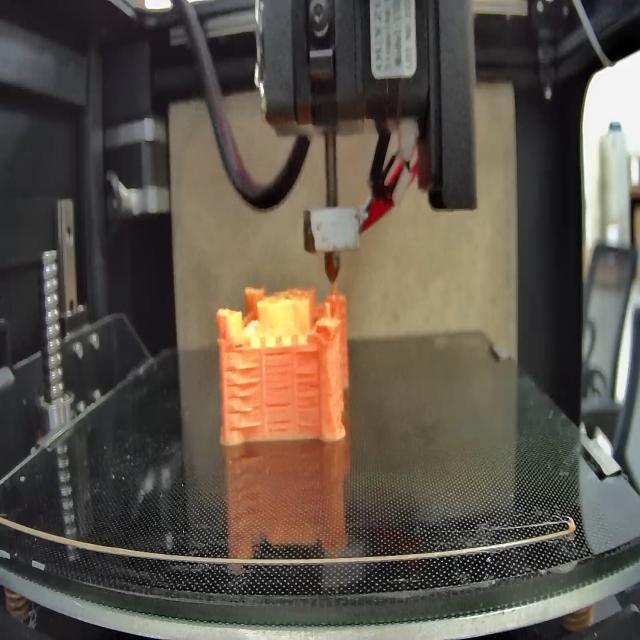cracks: (224, 363, 263, 432), (266, 366, 292, 430), (295, 369, 321, 432), (266, 346, 291, 359), (296, 348, 320, 358)
